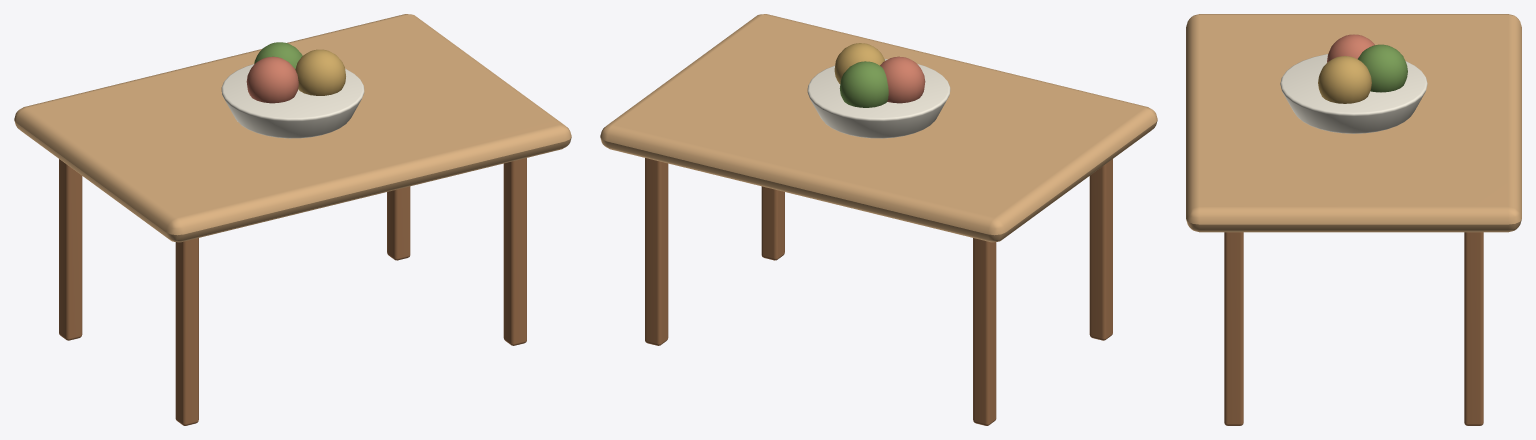
File: dining.glb
3 views of the same model, side by side, from view 1: azimuth 30°, elevation 25°; view 2: azimuth 150°, elevation 25°; view 3: azimuth 270°, elevation 25° (orthographic). The views are drawn at different scales.
Visible parts, largest first — view 1: Dining top, Fruit bowl, Tapered leg.013, Tapered leg.015, Tapered leg.012, Fruit, Fruit.001, Tapered leg.014, Fruit.002; view 2: Dining top, Fruit bowl, Tapered leg.012, Tapered leg.014, Tapered leg.013, Fruit.002, Tapered leg.015, Fruit, Fruit.001; view 3: Dining top, Fruit bowl, Tapered leg.014, Tapered leg.015, Fruit.001, Fruit.002, Fruit.
Boxes of the visible parts, x1=… form: Dining top: x1=14, y1=14, x2=571, y2=242; Fruit bowl: x1=221, y1=64, x2=364, y2=138; Tapered leg.013: x1=175, y1=238, x2=198, y2=425; Tapered leg.015: x1=503, y1=158, x2=526, y2=345; Tapered leg.012: x1=59, y1=159, x2=82, y2=340; Fruit: x1=246, y1=56, x2=298, y2=103; Fruit.001: x1=295, y1=49, x2=345, y2=95; Tapered leg.014: x1=387, y1=186, x2=410, y2=260; Fruit.002: x1=254, y1=42, x2=302, y2=69; Dining top: x1=600, y1=14, x2=1157, y2=242; Fruit bowl: x1=807, y1=59, x2=950, y2=138; Tapered leg.012: x1=973, y1=238, x2=996, y2=425; Tapered leg.014: x1=645, y1=158, x2=668, y2=345; Tapered leg.013: x1=1089, y1=159, x2=1112, y2=340; Fruit.002: x1=839, y1=61, x2=888, y2=107; Tapered leg.015: x1=761, y1=186, x2=784, y2=260; Fruit: x1=880, y1=56, x2=925, y2=103; Fruit.001: x1=834, y1=43, x2=885, y2=83; Dining top: x1=1186, y1=14, x2=1521, y2=232; Fruit bowl: x1=1280, y1=54, x2=1427, y2=133; Tapered leg.014: x1=1464, y1=232, x2=1483, y2=425; Tapered leg.015: x1=1224, y1=232, x2=1243, y2=425; Fruit.001: x1=1318, y1=56, x2=1371, y2=103; Fruit.002: x1=1358, y1=44, x2=1407, y2=92; Fruit: x1=1327, y1=34, x2=1374, y2=62.
Size of the model in its own units: 1.6 by 1.08 by 1.12.
